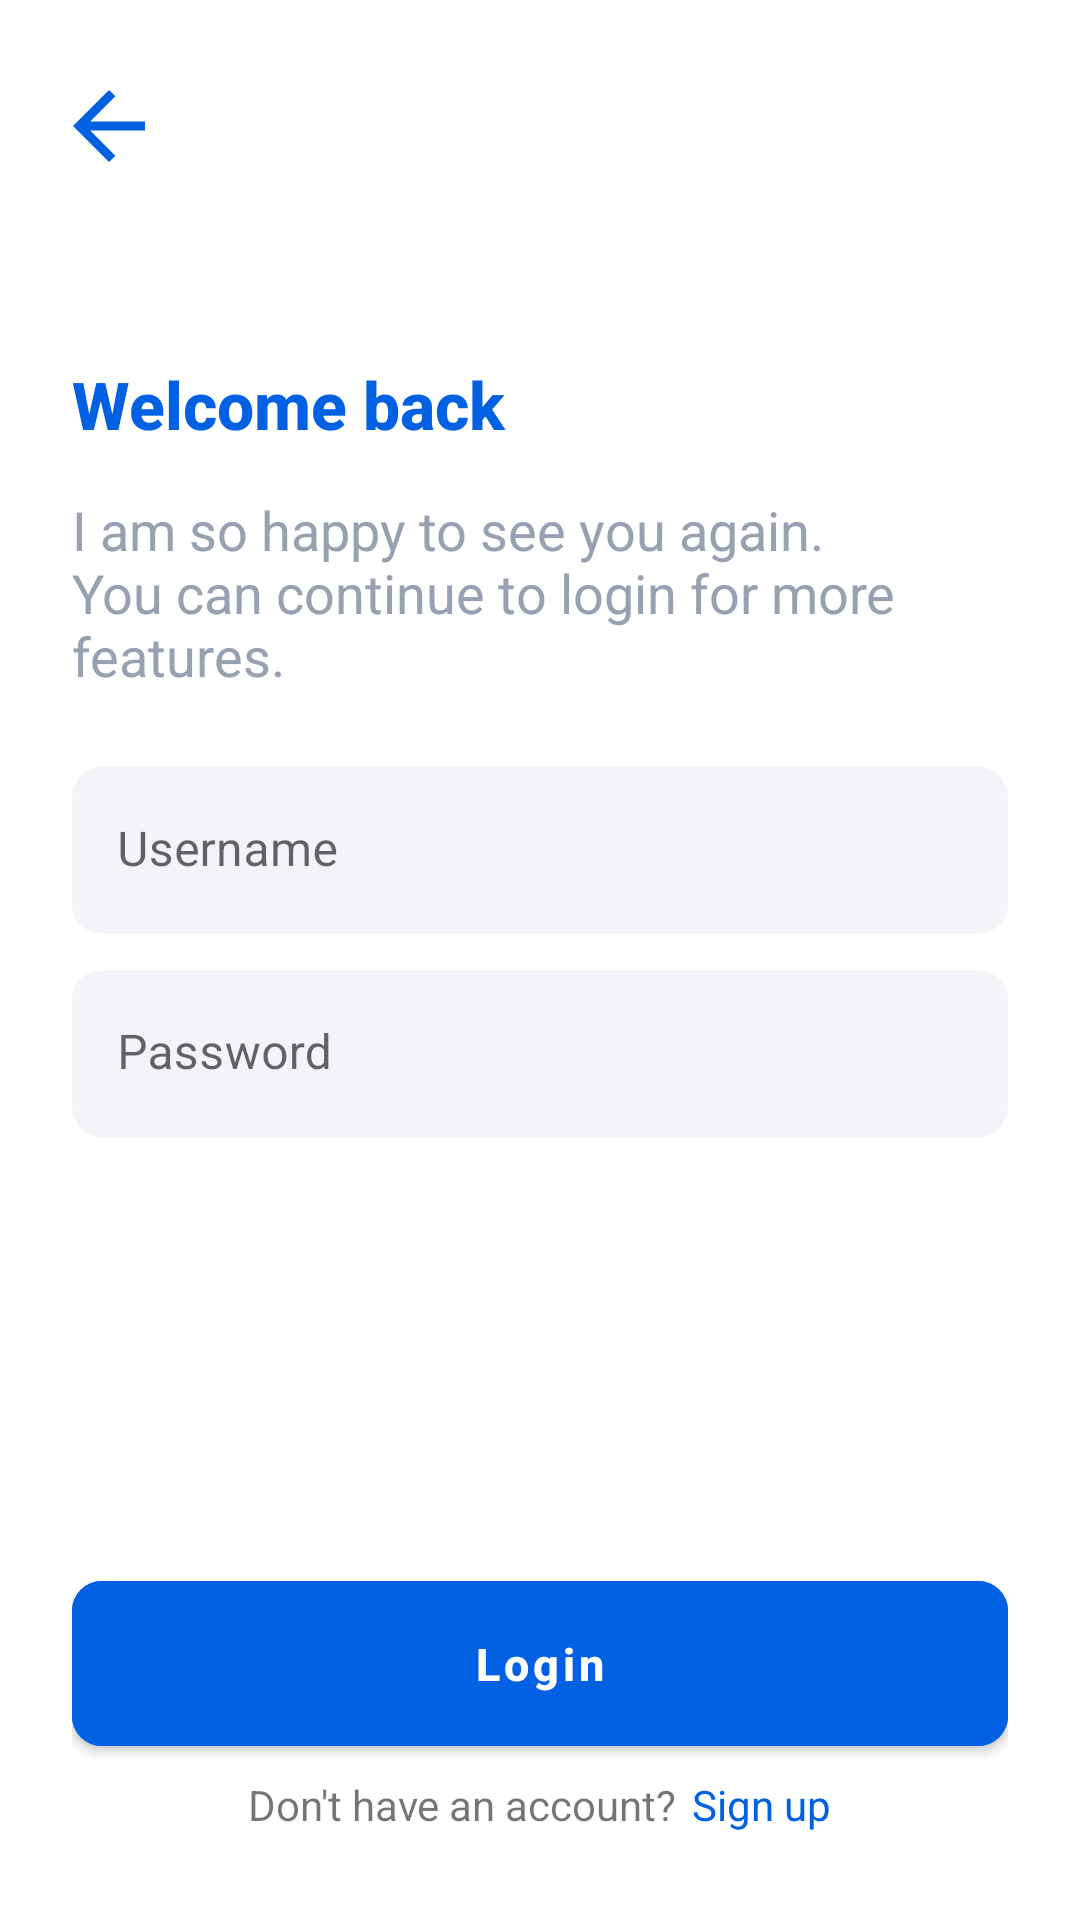

Where to tap for icons on this 1080px×1920px app screen, as (x,y):
arrow back: (109,126)
